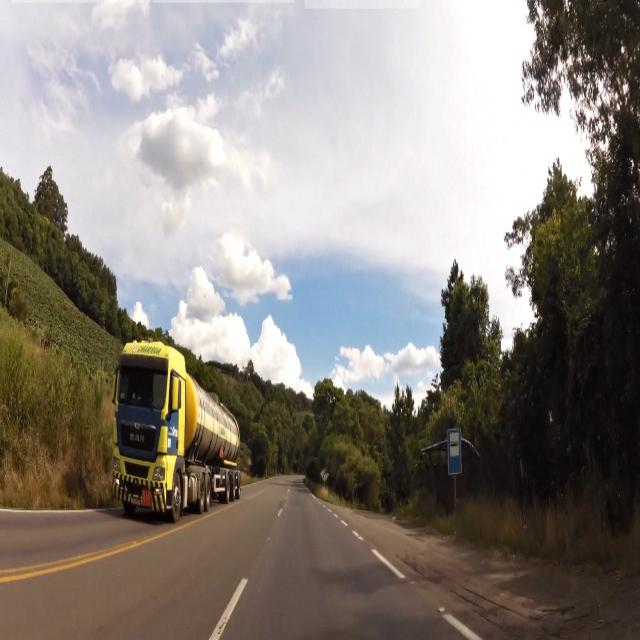S-14: (446, 430, 463, 475)
